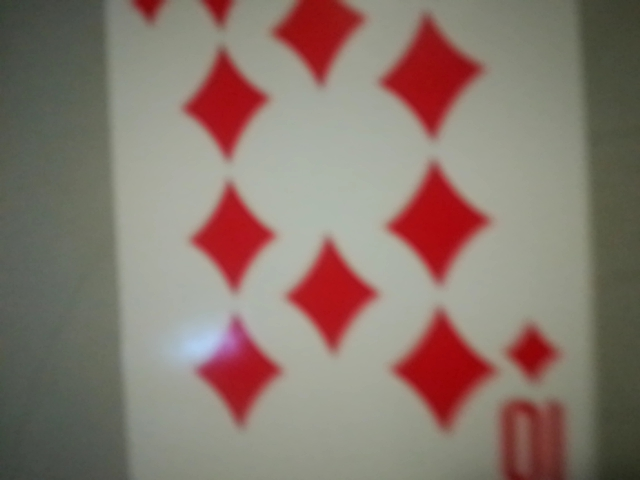fk 10: (480, 302, 595, 480)
